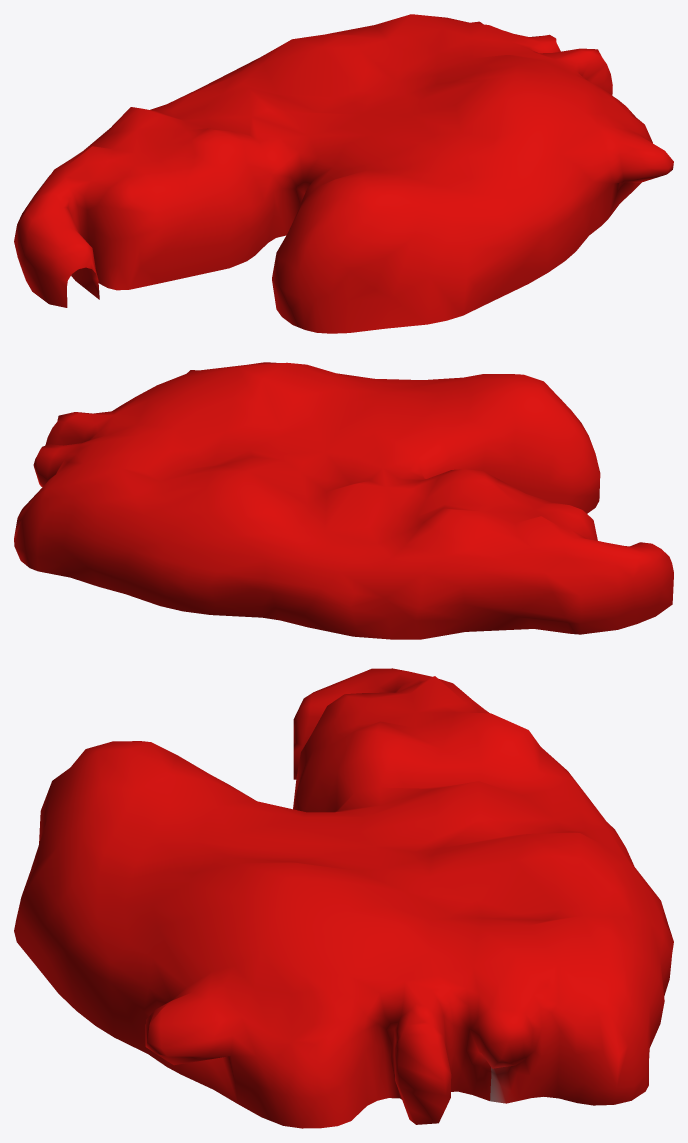
Rendered from LavaRoof.fbx.
The picture shows the model from 3 angles, top to bottom: view 1: azimuth 30°, elevation 25°; view 2: azimuth 150°, elevation 25°; view 3: azimuth 270°, elevation 25°; orthographic projection. The views are drawn at different scales.
Visible parts, largest first — view 1: LavaRoof; view 2: LavaRoof; view 3: LavaRoof.
Boxes of the visible parts, box(x1,y1,x2,y2) form: LavaRoof: box(14, 14, 673, 333); LavaRoof: box(14, 362, 673, 639); LavaRoof: box(14, 668, 673, 1128).
Bounding box in the file's own units: 22128 × 4439 × 16073.
